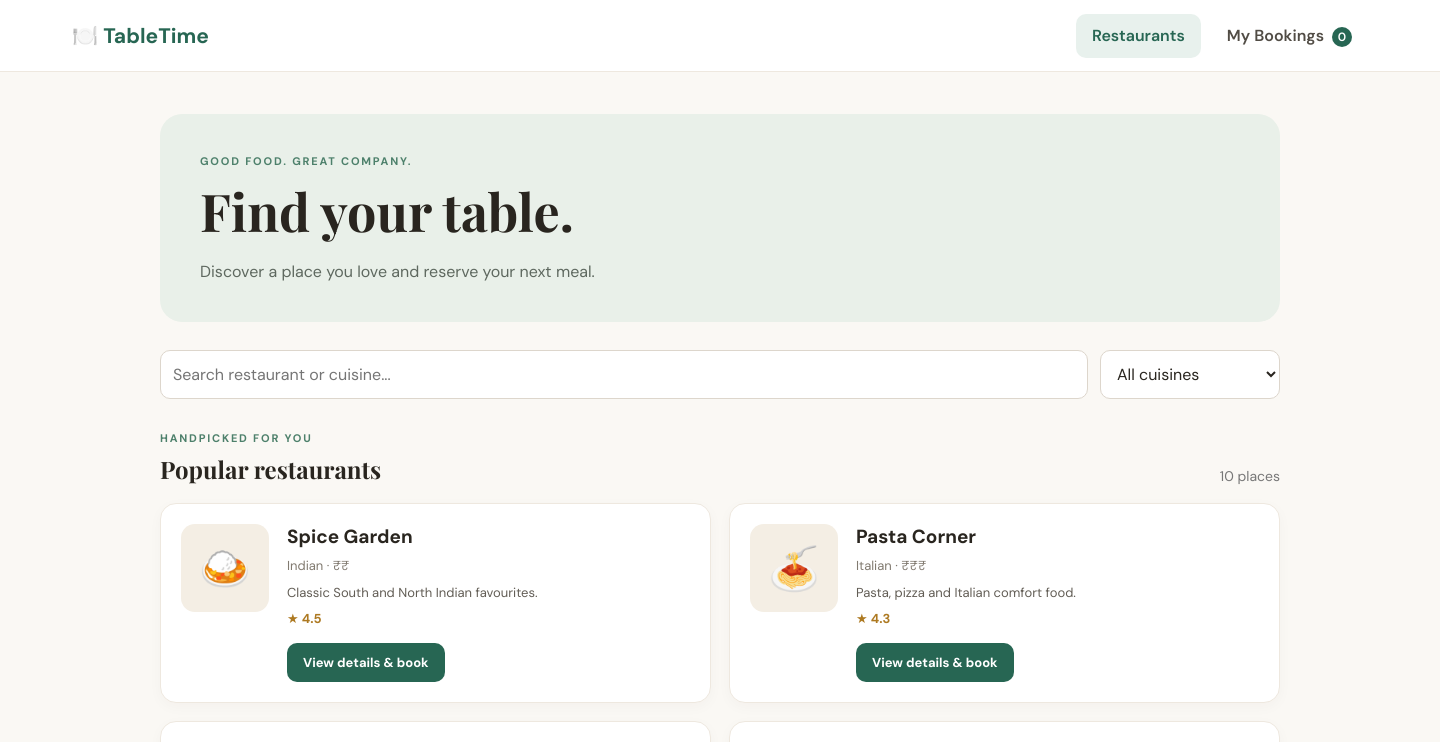
Test: Restaurant Reservation Components › filters restaurants by cuisine
Select "Italian" in the dropdown named "Filter by cuisine": (1190, 374) [1100,350,1280,399]
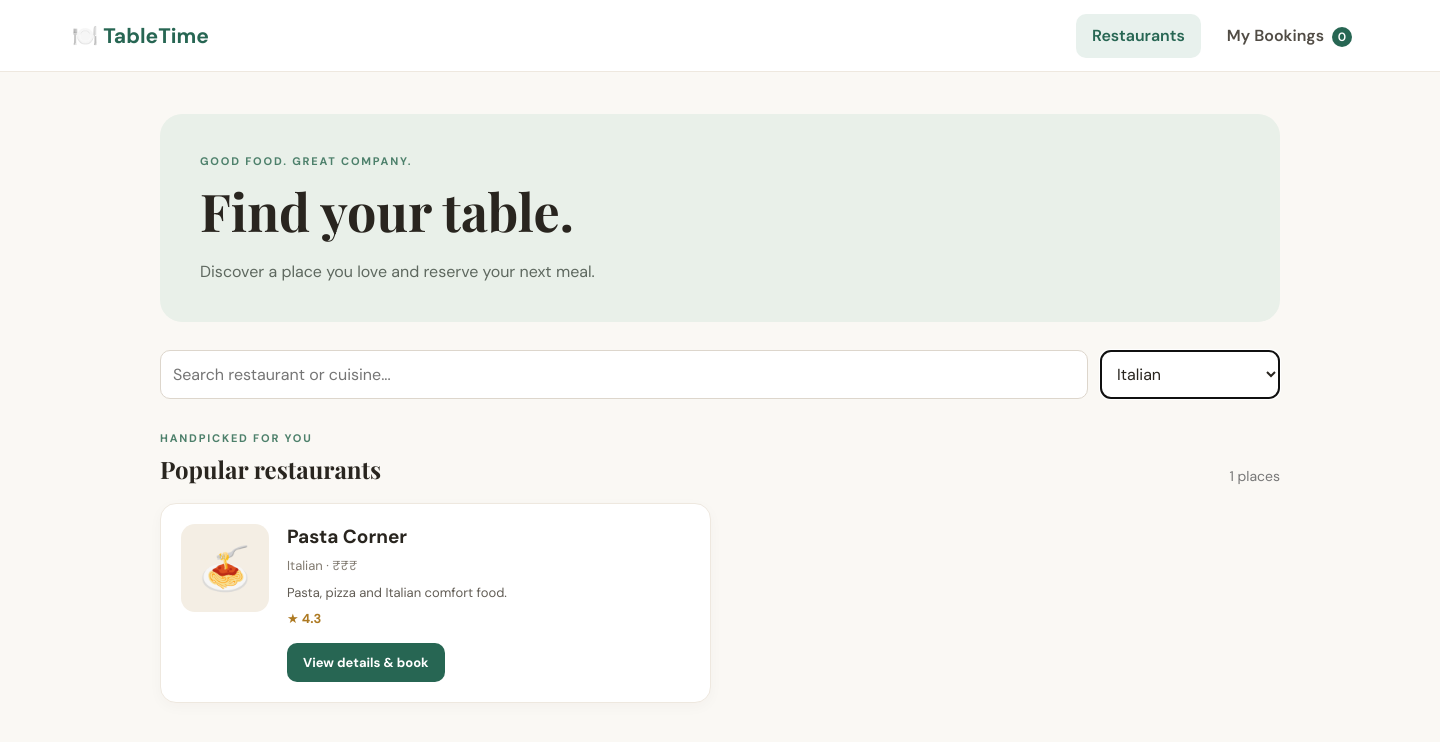
Expected: the heading "Pasta Corner" is shown, [287,524,407,549]
Now the heading "Spice Garden" is gone
